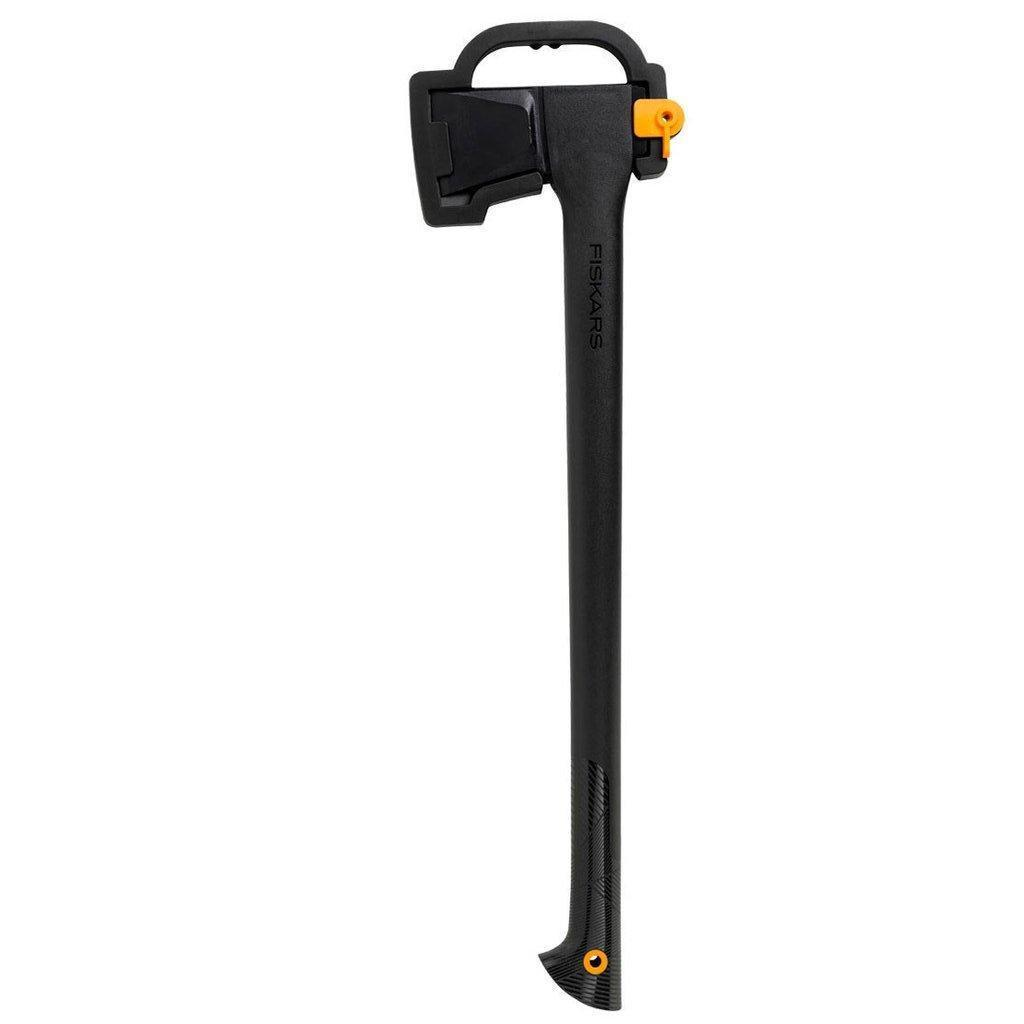machado: (410, 22, 666, 1010)
